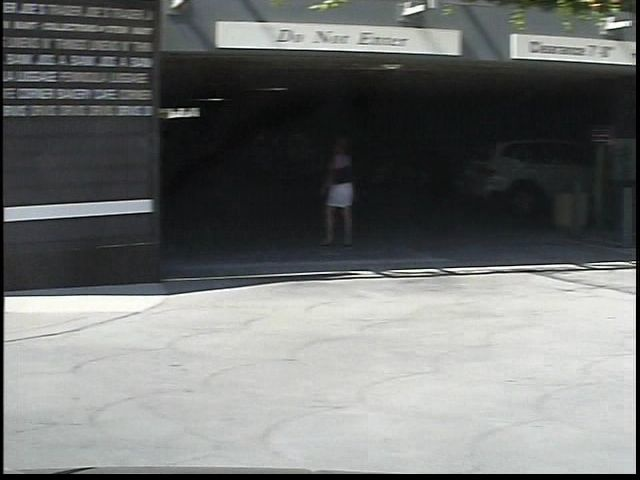person: (297, 134, 350, 254)
